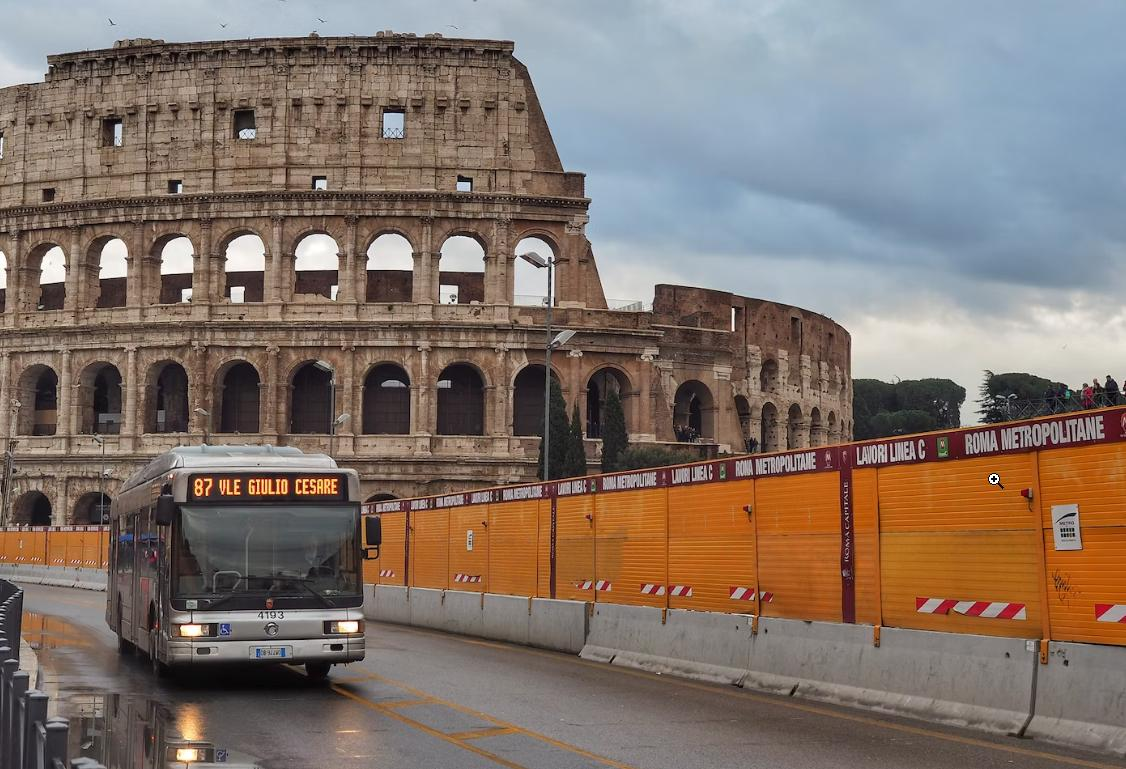vehicle: (104, 443, 381, 676)
